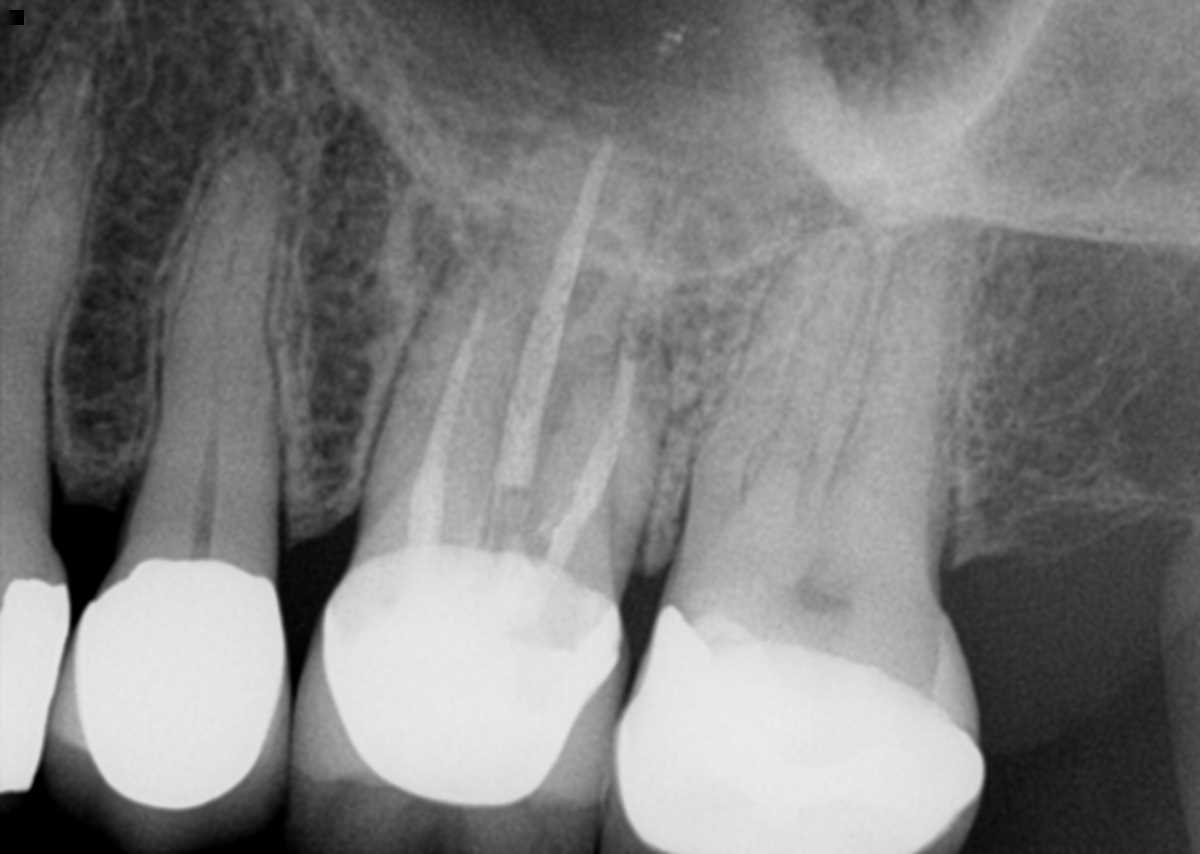Distal Root: (510, 256, 671, 572), (826, 236, 971, 553)
Main Canal: (190, 155, 273, 545)
Main Root: (105, 141, 287, 586), (0, 56, 100, 479)
Mesial Root: (358, 201, 541, 561), (680, 217, 871, 543)
Palatal Root: (374, 94, 656, 587), (691, 155, 989, 586)
Root Canal Filling: (491, 136, 612, 487), (407, 306, 486, 541), (554, 330, 637, 547)
